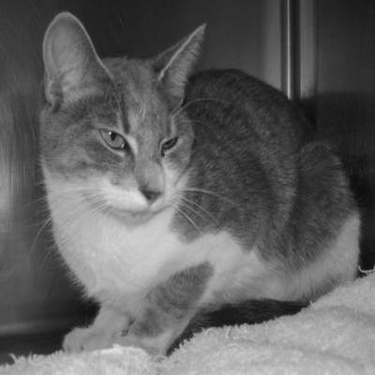cat: (36, 3, 362, 360)
